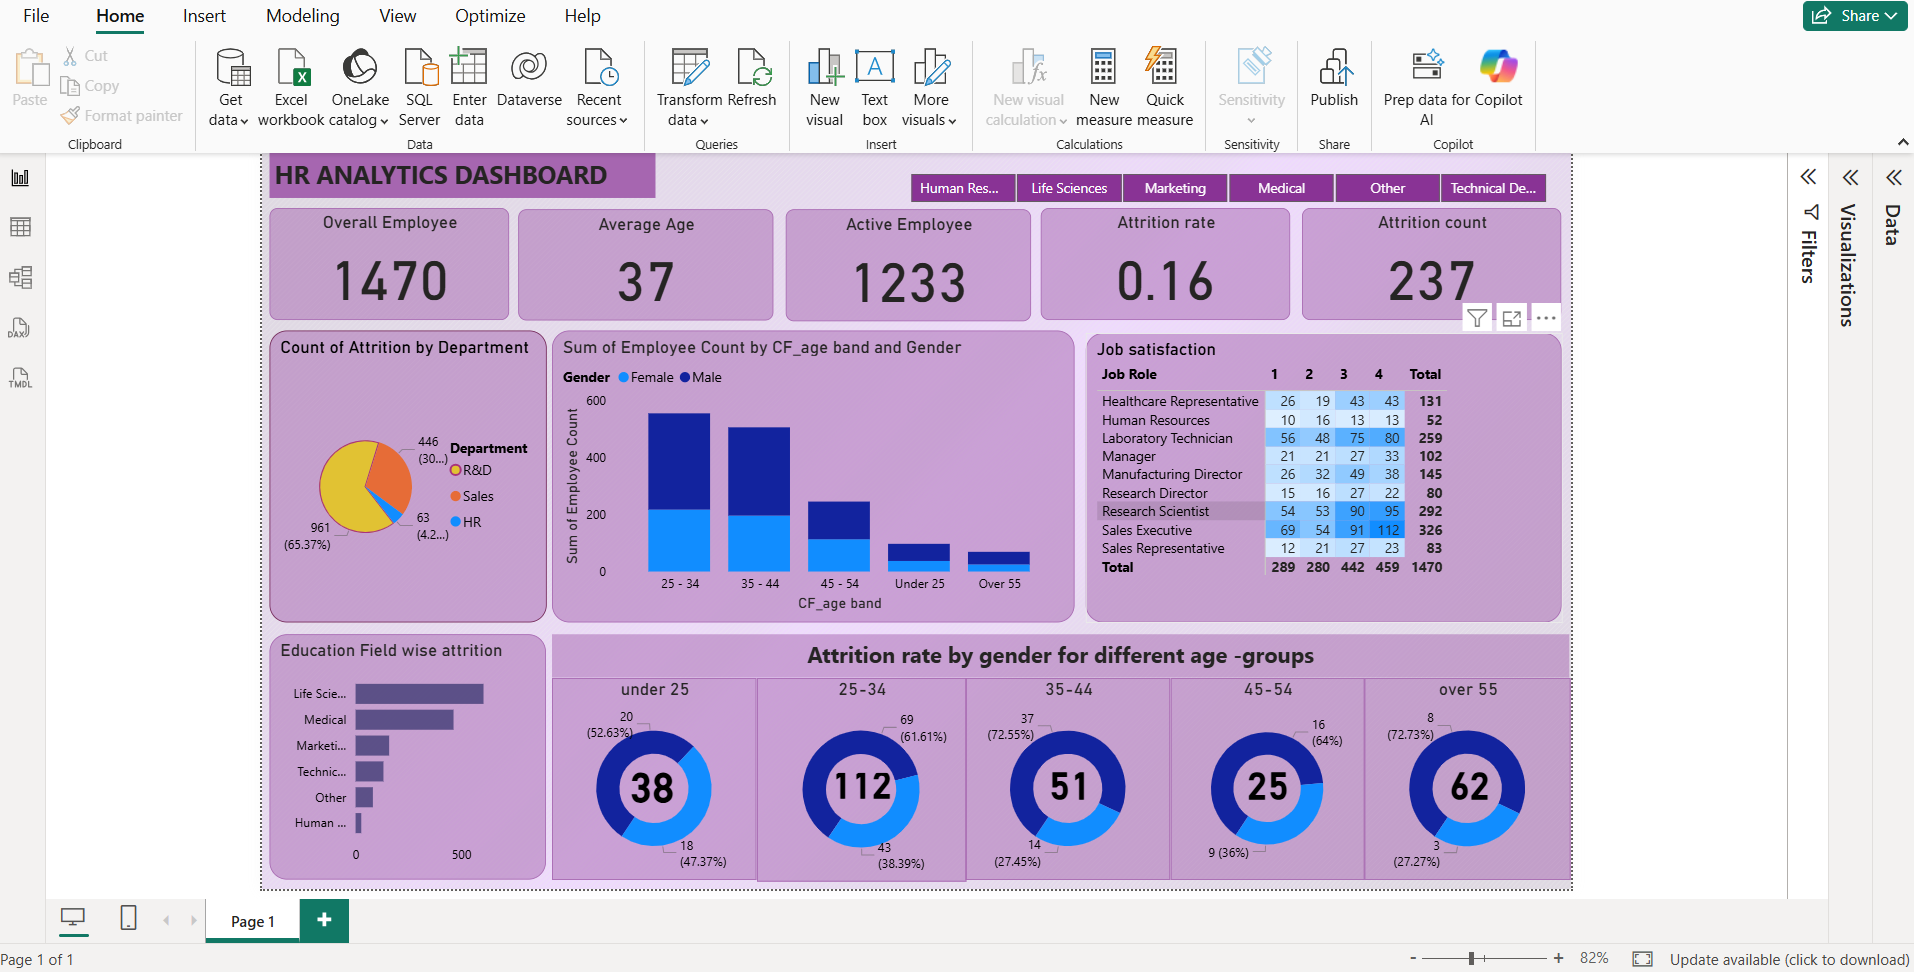

This screenshot's page, from the dashboard's own definition file:
{"tool":"powerbi","page":{"name":"Page 1","canvas":[1280,720],"ordinal":0},"visuals":[{"type":"card","title":"Overall Employee","fields":{"Values":["Sum(Table1.Employee Count)"]},"box":[6.9,53.5,234.6,109.8],"z":0},{"type":"card","title":"Attrition count","fields":{"Values":["Table1.Attrition Count"]},"box":[1016.8,53.5,253.9,109.8],"z":1000},{"type":"card","title":"Attrition rate","fields":{"Values":["Table1.Attrition Rate"]},"box":[761.6,53.5,244.3,109.8],"z":2000},{"type":"card","title":"Active Employee","fields":{"Values":["Table1.Active Employees"]},"box":[511.8,54.9,240.1,109.8],"z":3000},{"type":"card","title":"Average Age","fields":{"Values":["Table1.Average Age"]},"box":[251.1,54.9,249.7,108.4],"z":4000},{"type":"pieChart","fields":{"Category":["Table1.Department"],"Y":["CountNonNull(Table1.Attrition)"]},"box":[7.2,173.7,271.4,285.9],"z":5000},{"type":"barChart","title":"Education Field wise attrition","fields":{"Category":["Table1.Education Field"],"Y":["CountNonNull(Table1.Attrition)"]},"box":[7.2,470.5,270.2,240.1],"z":6000},{"type":"columnChart","fields":{"Category":["Table1.CF_age band"],"Y":["Sum(Table1.Employee Count)"],"Series":["Table1.Gender"]},"box":[283.5,173.7,511.5,285.9],"z":7000},{"type":"pivotTable","title":"Job satisfaction","fields":{"Rows":["Table1.Job Role"],"Columns":["Table1.Job Satisfaction"],"Values":["Sum(Table1.Employee Count)"]},"box":[805.9,176.1,465.7,283.5],"z":8000},{"type":"donutChart","title":"under 25","fields":{"Series":["Table1.CF_age band"],"Category":["Table1.Gender"],"Y":["Table1.Attrition Count"]},"box":[284,513.2,200.3,197.6],"z":9000},{"type":"donutChart","title":"25-34","fields":{"Series":["Table1.CF_age band"],"Category":["Table1.Gender"],"Y":["Table1.Attrition Count"]},"box":[484.4,513.2,204.5,199],"z":10000},{"type":"donutChart","title":"35-44","fields":{"Series":["Table1.CF_age band"],"Category":["Table1.Gender"],"Y":["Table1.Attrition Count"]},"box":[688.9,513.2,200.3,197.6],"z":11000},{"type":"donutChart","title":"over 55","fields":{"Series":["Table1.CF_age band"],"Category":["Table1.Gender"],"Y":["Table1.Attrition Count"]},"box":[1078.6,513.2,201.7,197.6],"z":12000},{"type":"donutChart","title":"45-54","fields":{"Series":["Table1.CF_age band"],"Category":["Table1.Gender"],"Y":["Table1.Attrition Count"]},"box":[889.2,513.2,189.4,197.6],"z":13000},{"type":"card","fields":{"Values":["Table1.Attrition Count"]},"box":[343.1,584.6,76.8,64.5],"z":14000},{"type":"card","fields":{"Values":["Table1.Attrition Count"]},"box":[727.3,580.4,124.9,71.4],"z":15000},{"type":"card","fields":{"Values":["Table1.Attrition Count"]},"box":[536.5,601,100.2,48],"z":16000},{"type":"card","fields":{"Values":["Table1.Attrition Count"]},"box":[1118.4,580.4,124.9,71.4],"z":17000},{"type":"card","fields":{"Values":["Table1.Attrition Count"]},"box":[922.1,580.4,124.9,71.4],"z":18000},{"type":"textbox","box":[284,470.7,994.9,42.5],"z":19000},{"type":"slicer","fields":{"Values":["Table1.Education Field"]},"box":[609.3,13.7,671,41.2],"z":20000},{"type":"textbox","box":[6.9,0,377.4,43.9],"z":21000}]}

Visuals, with their boxes on the page's 1280x720 design canvas (x1, y1, x2, y2). These are canvas units, not pixel positions in the 1914x972 screenshot, which may show the page scaled, cropped or inside an application window:
"Overall Employee" card: (left=7, top=54, right=242, bottom=163)
"Attrition count" card: (left=1017, top=54, right=1271, bottom=163)
"Attrition rate" card: (left=762, top=54, right=1006, bottom=163)
"Active Employee" card: (left=512, top=55, right=752, bottom=165)
"Average Age" card: (left=251, top=55, right=501, bottom=163)
pieChart - Table1.Department x CountNonNull(Table1.Attrition): (left=7, top=174, right=279, bottom=460)
"Education Field wise attrition" barChart: (left=7, top=470, right=277, bottom=711)
columnChart - Table1.CF_age band x Sum(Table1.Employee Count): (left=284, top=174, right=795, bottom=460)
"Job satisfaction" pivotTable: (left=806, top=176, right=1272, bottom=460)
"under 25" donutChart: (left=284, top=513, right=484, bottom=711)
"25-34" donutChart: (left=484, top=513, right=689, bottom=712)
"35-44" donutChart: (left=689, top=513, right=889, bottom=711)
"over 55" donutChart: (left=1079, top=513, right=1280, bottom=711)
"45-54" donutChart: (left=889, top=513, right=1079, bottom=711)
card - Table1.Attrition Count: (left=343, top=585, right=420, bottom=649)
card - Table1.Attrition Count: (left=727, top=580, right=852, bottom=652)
card - Table1.Attrition Count: (left=536, top=601, right=637, bottom=649)
card - Table1.Attrition Count: (left=1118, top=580, right=1243, bottom=652)
card - Table1.Attrition Count: (left=922, top=580, right=1047, bottom=652)
textbox: (left=284, top=471, right=1279, bottom=513)
slicer - Table1.Education Field: (left=609, top=14, right=1280, bottom=55)
textbox: (left=7, top=0, right=384, bottom=44)
